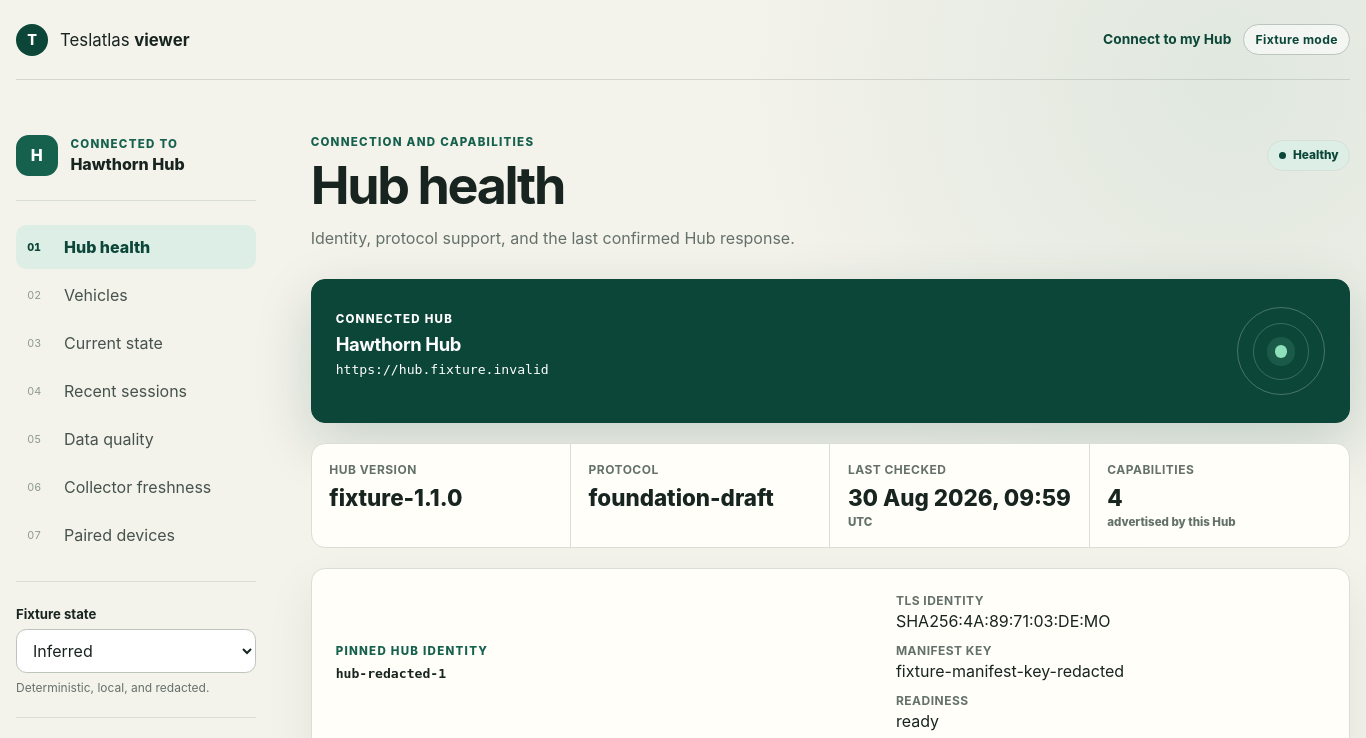
reference views › labels inferred values and names each derived field
Click the button "03 Current state".
click(136, 343)  # box left=16, top=321, right=256, bottom=365
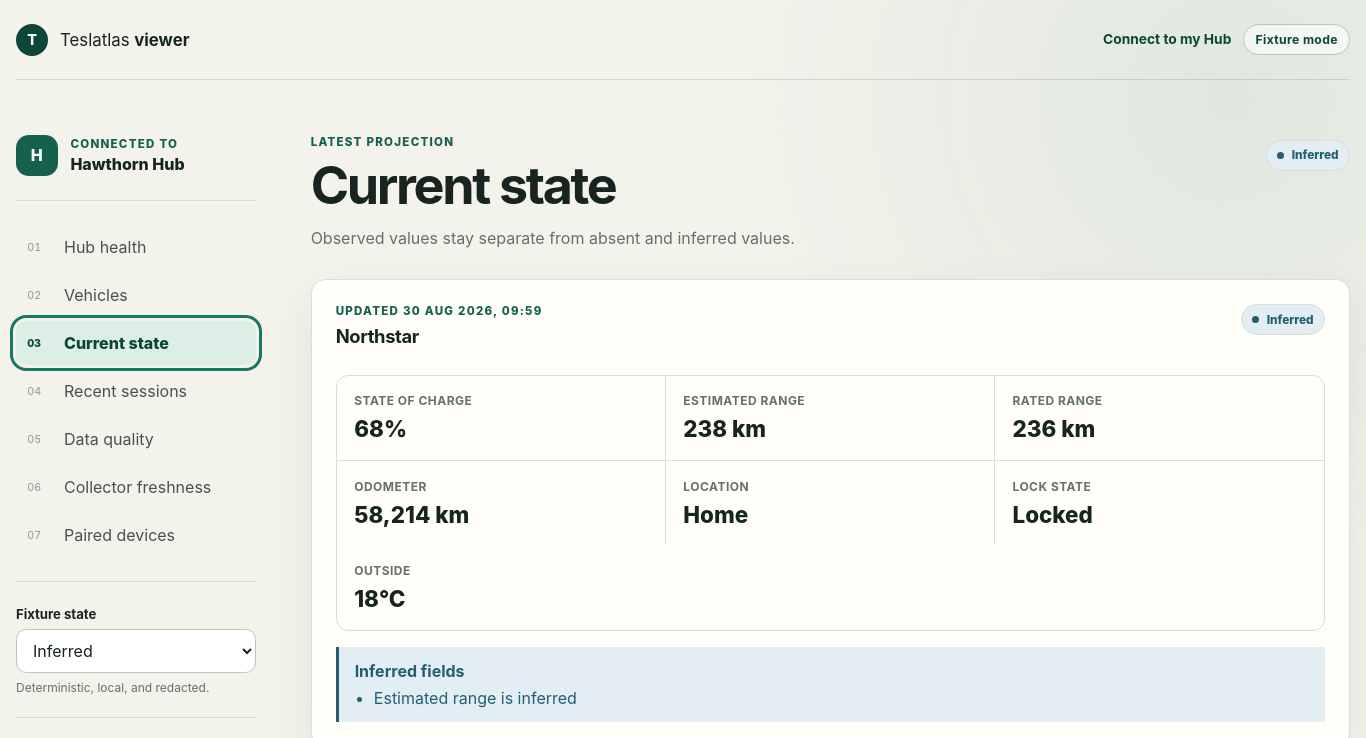
Now the text "Inferred" is shown 2 times, box left=1266, top=140, right=1350, bottom=171; left=1241, top=304, right=1325, bottom=335
Now the text "238 km" is shown, box left=683, top=415, right=766, bottom=442
Now the list item "Estimated range is inferred" is shown, box left=374, top=688, right=577, bottom=708
